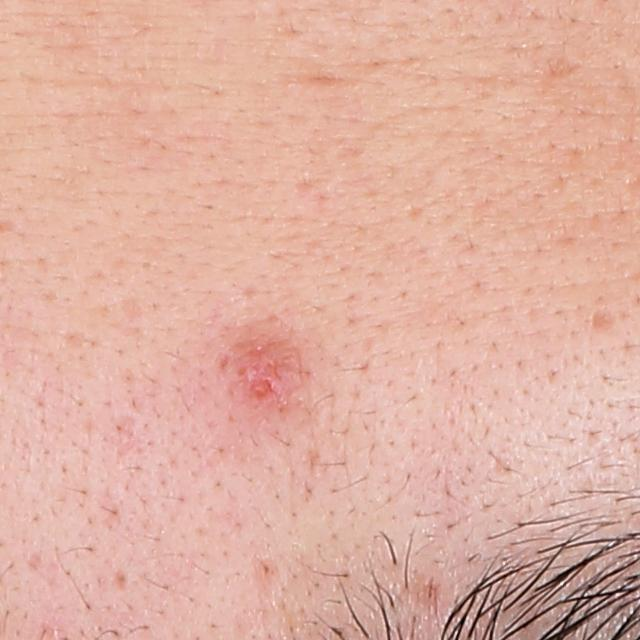atrophic_scar: (546, 47, 582, 83), (590, 301, 618, 337)
papule: (230, 336, 305, 403)
